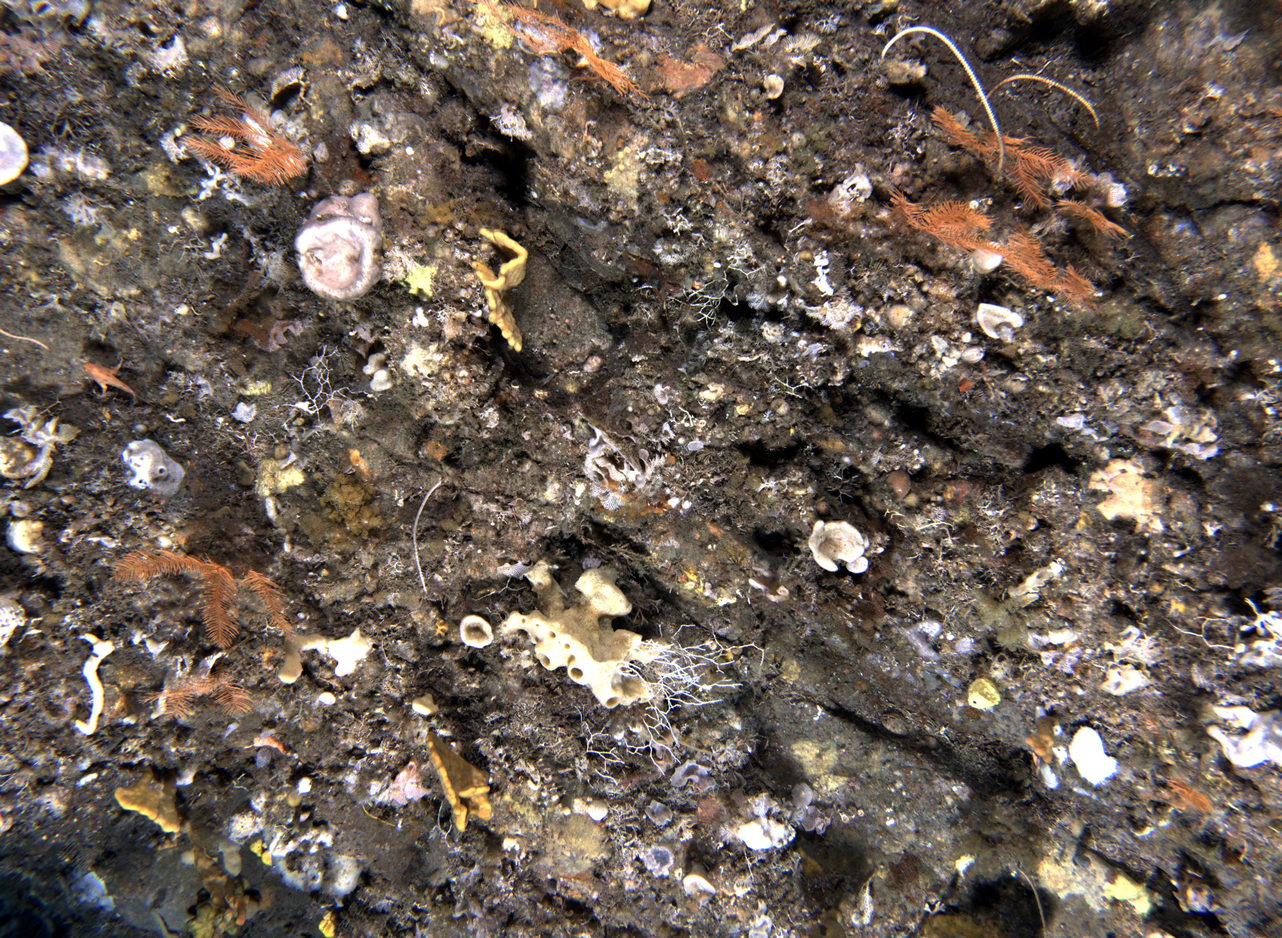Brachionichthyidae: (80, 356, 142, 401)
